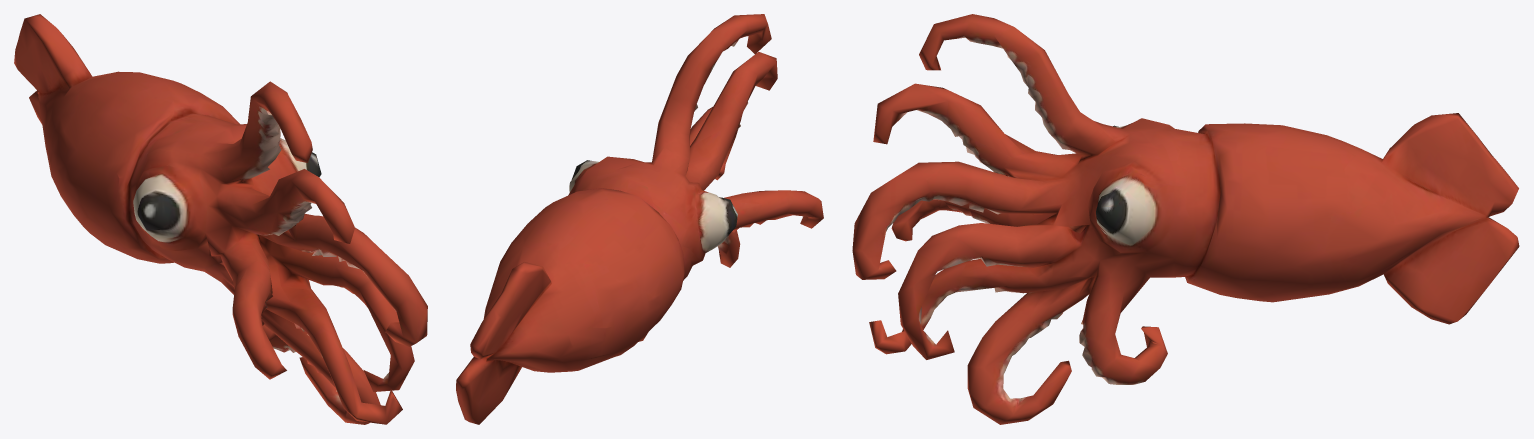
The model's file is fish-giant-squid.glb.
3 views of the same model, side by side, from view 1: azimuth 30°, elevation 25°; view 2: azimuth 150°, elevation 25°; view 3: azimuth 270°, elevation 25° (orthographic). The views are drawn at different scales.
Parts seen in each view (by area): view 1: tripo_node_c7f607b5-ebd5-4561-b677-98653bf39330; view 2: tripo_node_c7f607b5-ebd5-4561-b677-98653bf39330; view 3: tripo_node_c7f607b5-ebd5-4561-b677-98653bf39330.
Boxes of the visible parts, x1,y1,x2,y2 form: tripo_node_c7f607b5-ebd5-4561-b677-98653bf39330: (14,14,427,424); tripo_node_c7f607b5-ebd5-4561-b677-98653bf39330: (456,14,823,424); tripo_node_c7f607b5-ebd5-4561-b677-98653bf39330: (852,14,1519,424).
Bounding box in the file's own units: 0.3017 × 0.5944 × 1.
1 material, 1 textured.
